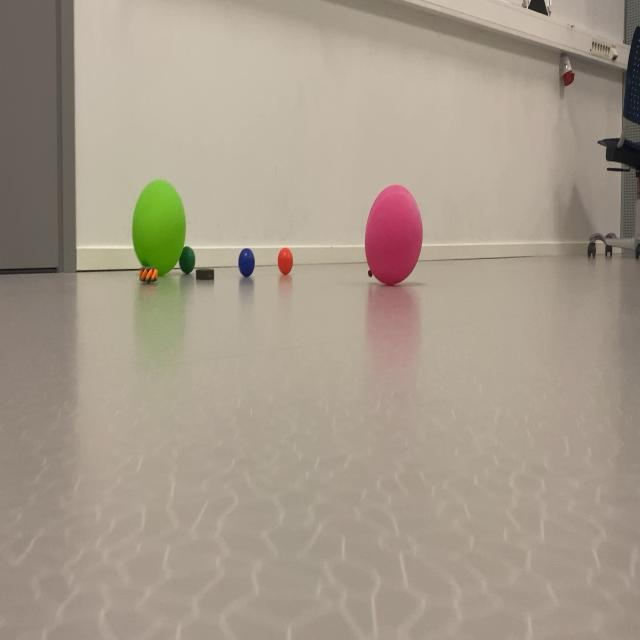7: (272, 232, 314, 292)
green ball: (234, 227, 257, 300)
red ball: (177, 242, 197, 278)
